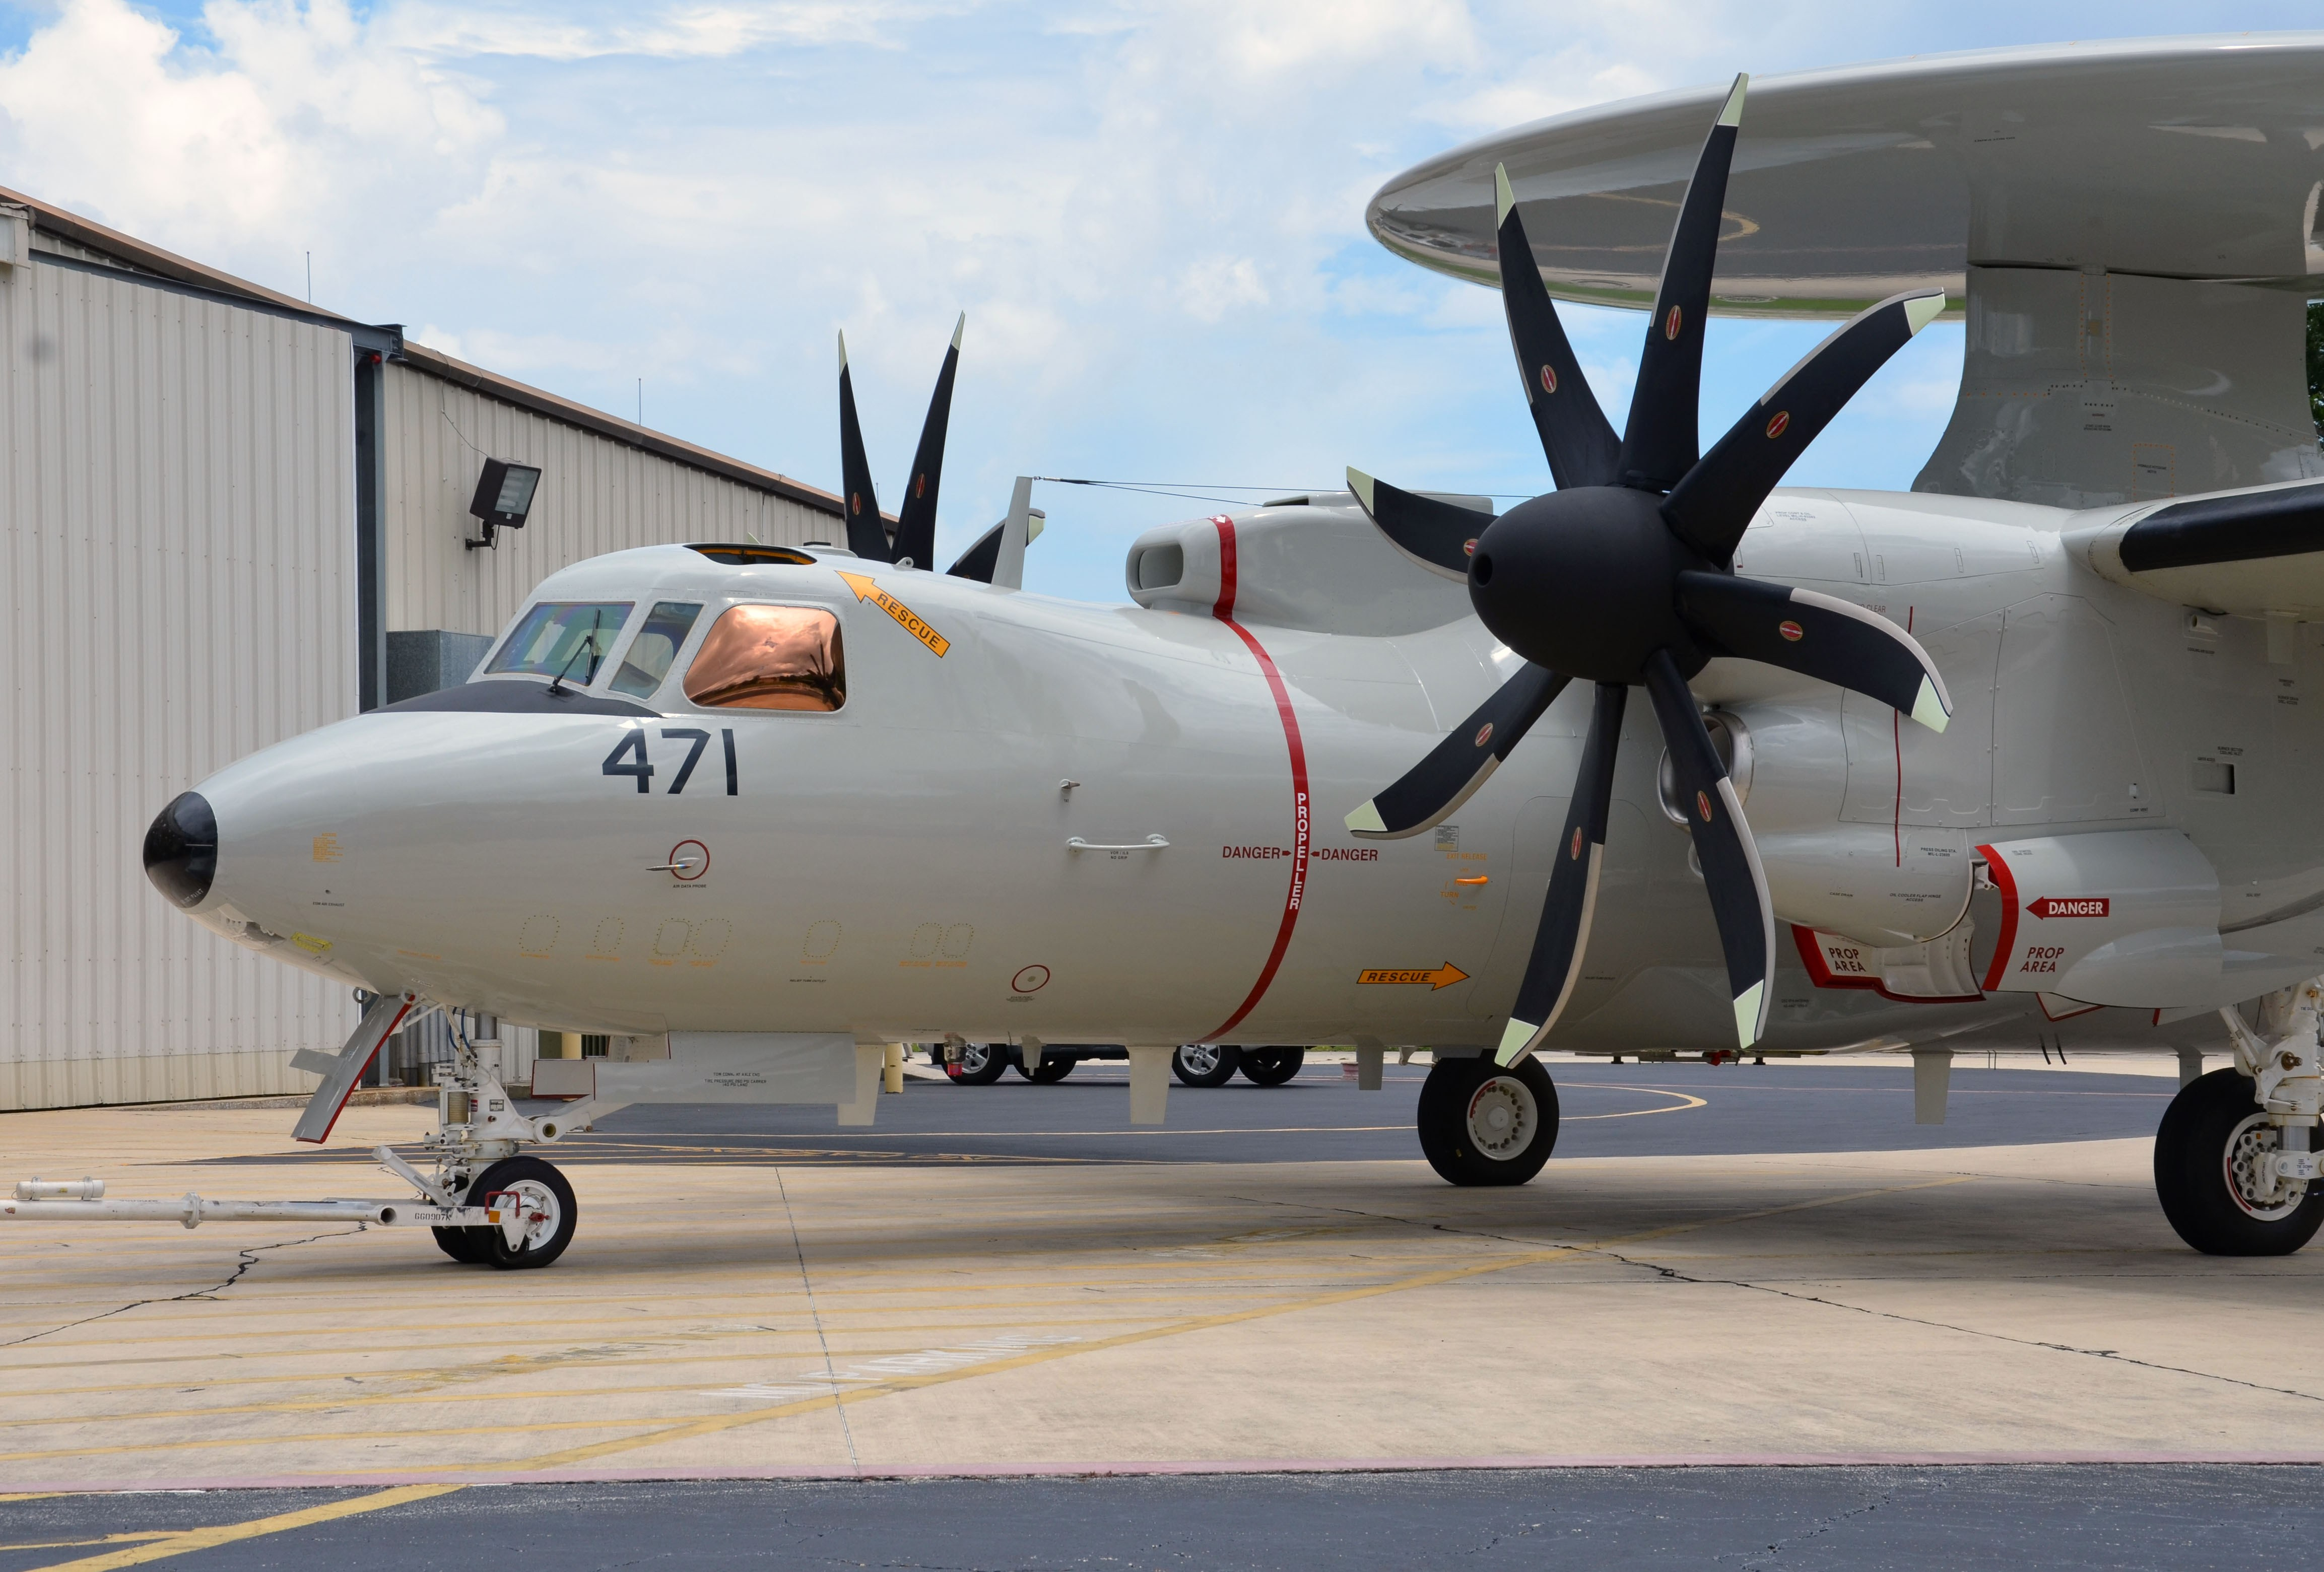E2: (142, 30, 2324, 1263)
